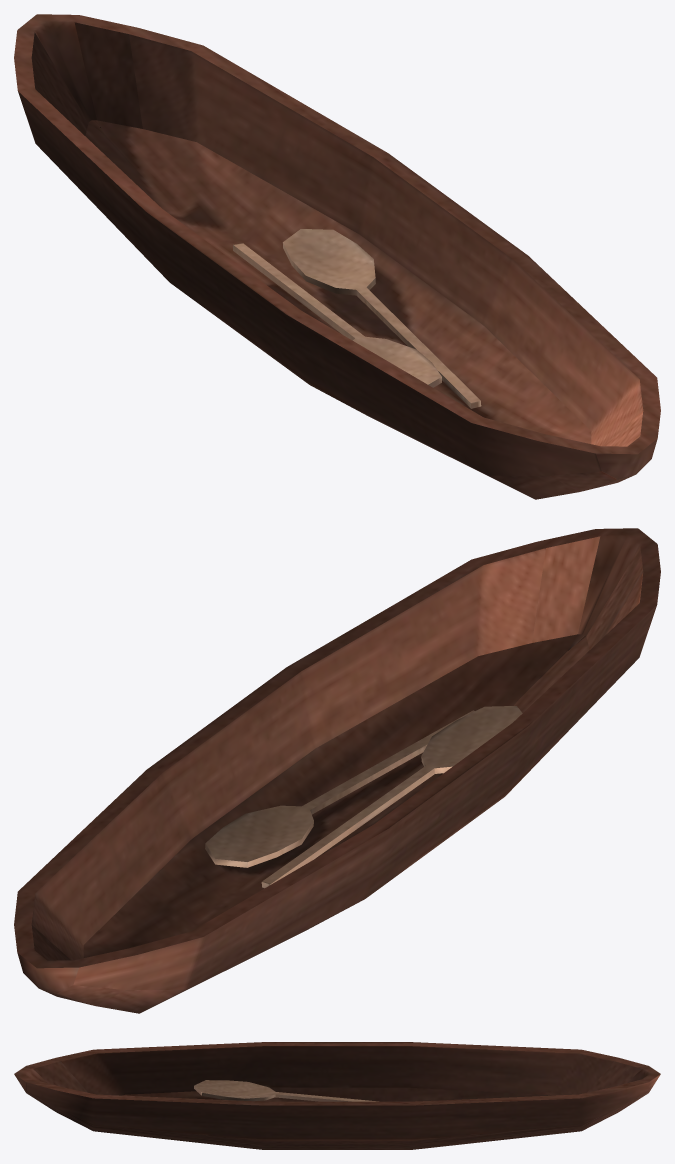
File: Boat3.fbx
3 renders of one model, top to bottom at view 1: azimuth 30°, elevation 25°; view 2: azimuth 150°, elevation 25°; view 3: azimuth 270°, elevation 25°, orthographic. The views are drawn at different scales.
Parts seen in each view (by area): view 1: Gom_Canoa3_00; view 2: Gom_Canoa3_00; view 3: Gom_Canoa3_00.
Boxes of the visible parts, x1,y1,x2,y2 form: Gom_Canoa3_00: (14,14,660,499); Gom_Canoa3_00: (14,528,660,1013); Gom_Canoa3_00: (14,1042,660,1149).
Size of the model in its own units: 0.7205 by 0.3501 by 3.1.
